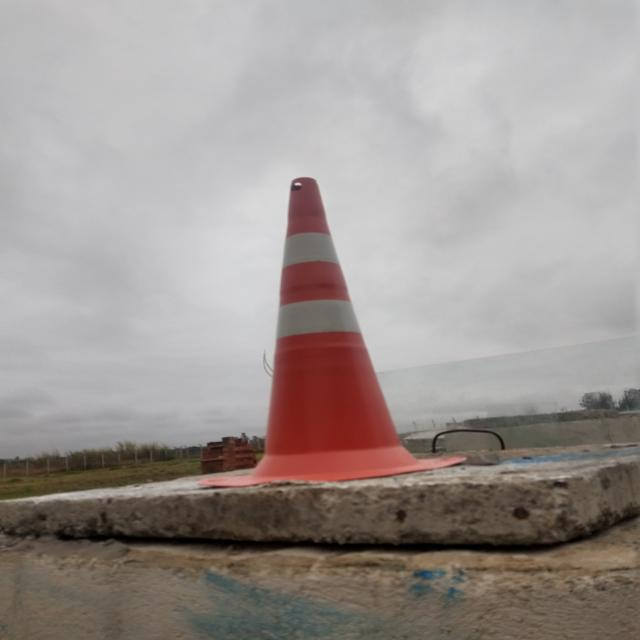cone: (216, 172, 457, 492)
